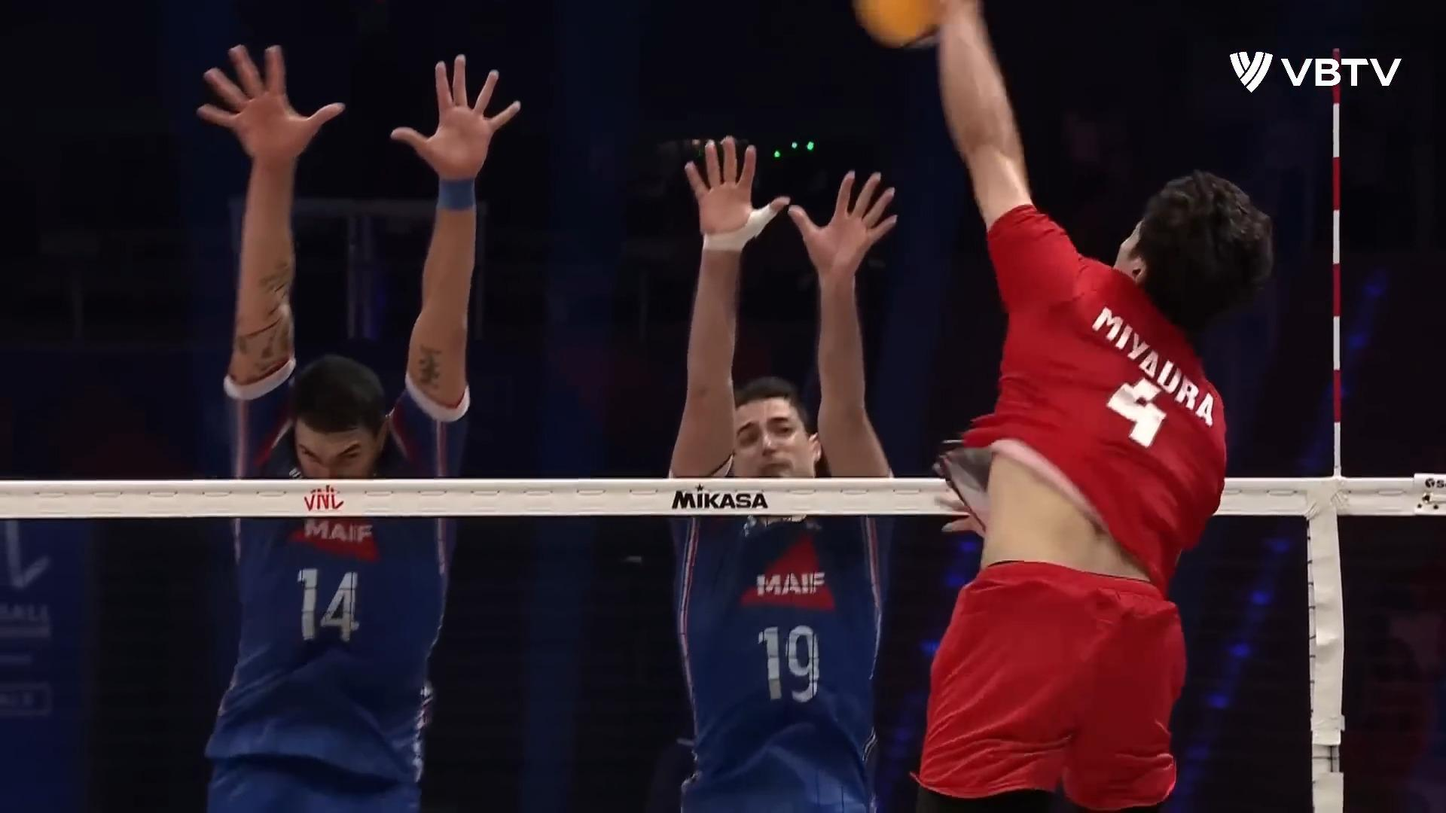ball: (853, 0, 985, 48)
